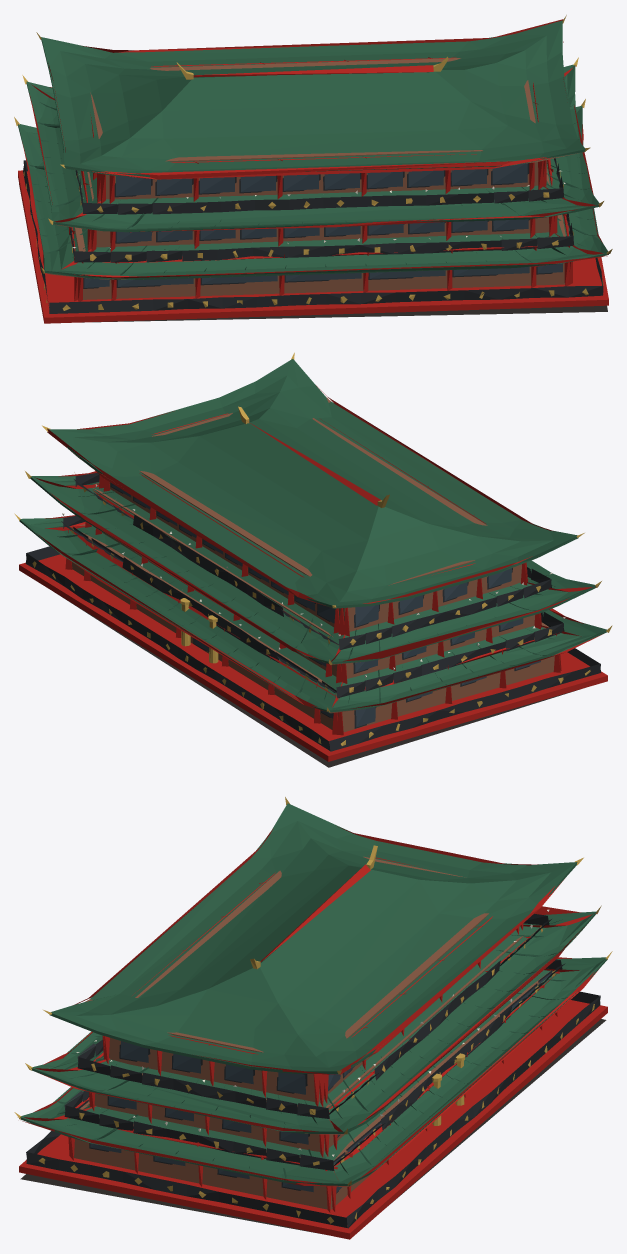
Rendered from sea-palace.lod1.glb.
The picture shows the model from 3 angles, top to bottom: view 1: azimuth 30°, elevation 25°; view 2: azimuth 150°, elevation 25°; view 3: azimuth 270°, elevation 25°; orthographic projection. The views are drawn at different scales.
Visible parts, largest first — view 1: sea-palace; view 2: sea-palace; view 3: sea-palace.
Part boxes in pixels (x1,y1,x2,y2): sea-palace: (14,15,612,323); sea-palace: (14,352,612,767); sea-palace: (14,797,612,1239).
Bounding box in the file's own units: 46.27 × 14.4 × 39.27.
